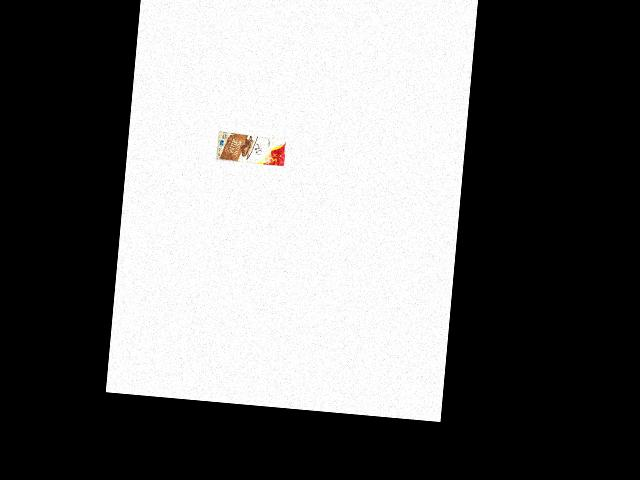chocolate: (217, 130, 288, 168)
